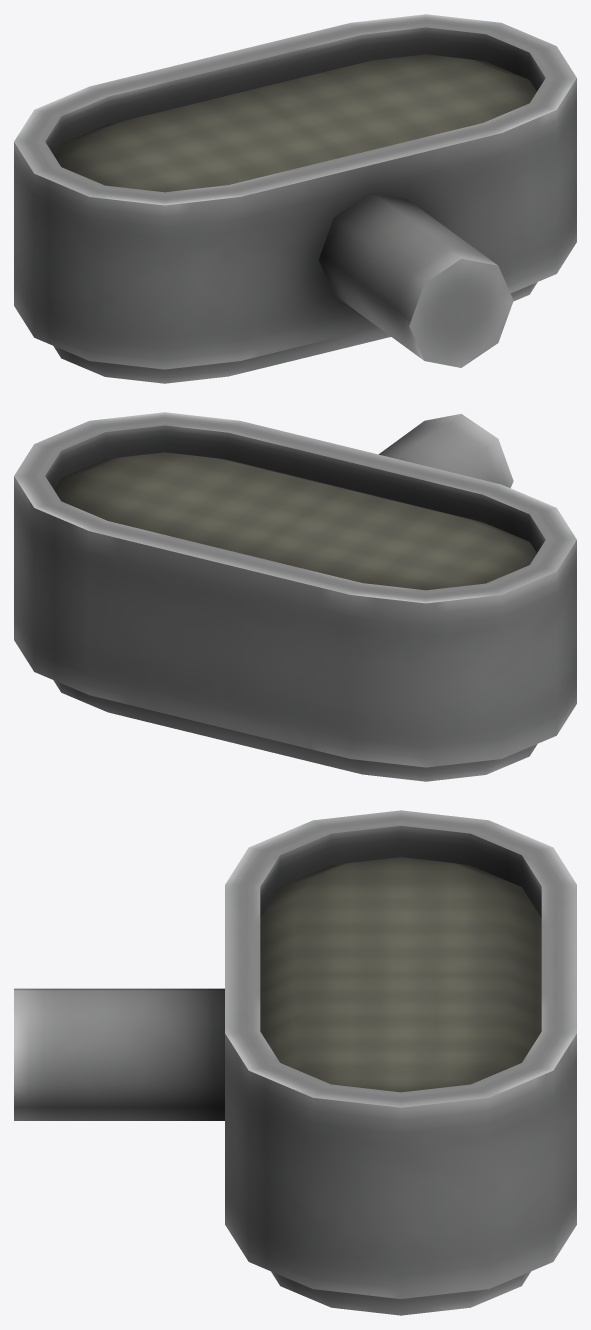
Rendered from octans_light_srf_2.obj.
3 renders of one model, top to bottom at view 1: azimuth 30°, elevation 25°; view 2: azimuth 150°, elevation 25°; view 3: azimuth 270°, elevation 25°, orthographic. The views are drawn at different scales.
Parts seen in each view (by area): view 1: mesh; view 2: mesh; view 3: mesh.
Boxes of the visible parts, x1,y1,x2,y2 form: mesh: [14, 14, 576, 383]; mesh: [14, 412, 576, 781]; mesh: [14, 810, 576, 1315].
Bounding box in the file's own units: 0.25 × 0.0875 × 0.2.
1 material, 1 textured.
